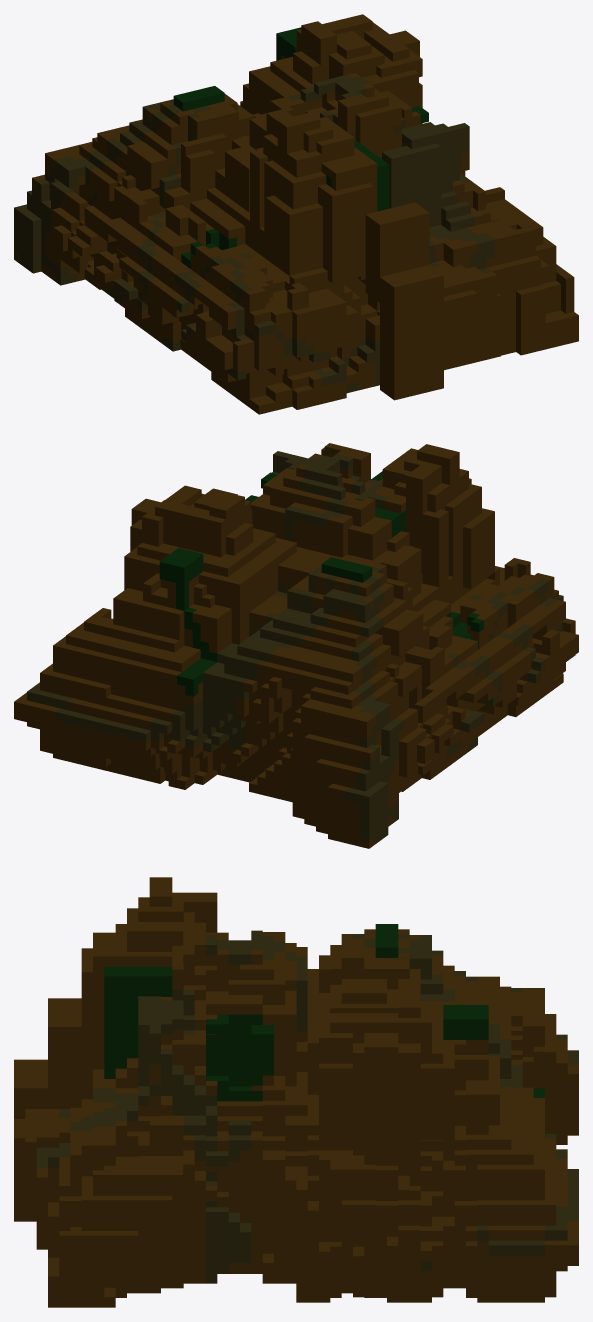
Rendered from rock_last.obj.
3 views of the same model, one above another, from view 1: azimuth 30°, elevation 25°; view 2: azimuth 150°, elevation 25°; view 3: azimuth 270°, elevation 25° (orthographic). The views are drawn at different scales.
Parts seen in each view (by area): view 1: rock_last; view 2: rock_last; view 3: rock_last.
Part boxes in pixels (bbox=[...]): rock_last: bbox=[14, 14, 578, 414]; rock_last: bbox=[14, 443, 578, 848]; rock_last: bbox=[14, 877, 578, 1307].
Bounding box in the file's own units: 44 × 28 × 50.
Materials: 1 (1 with a texture image).
